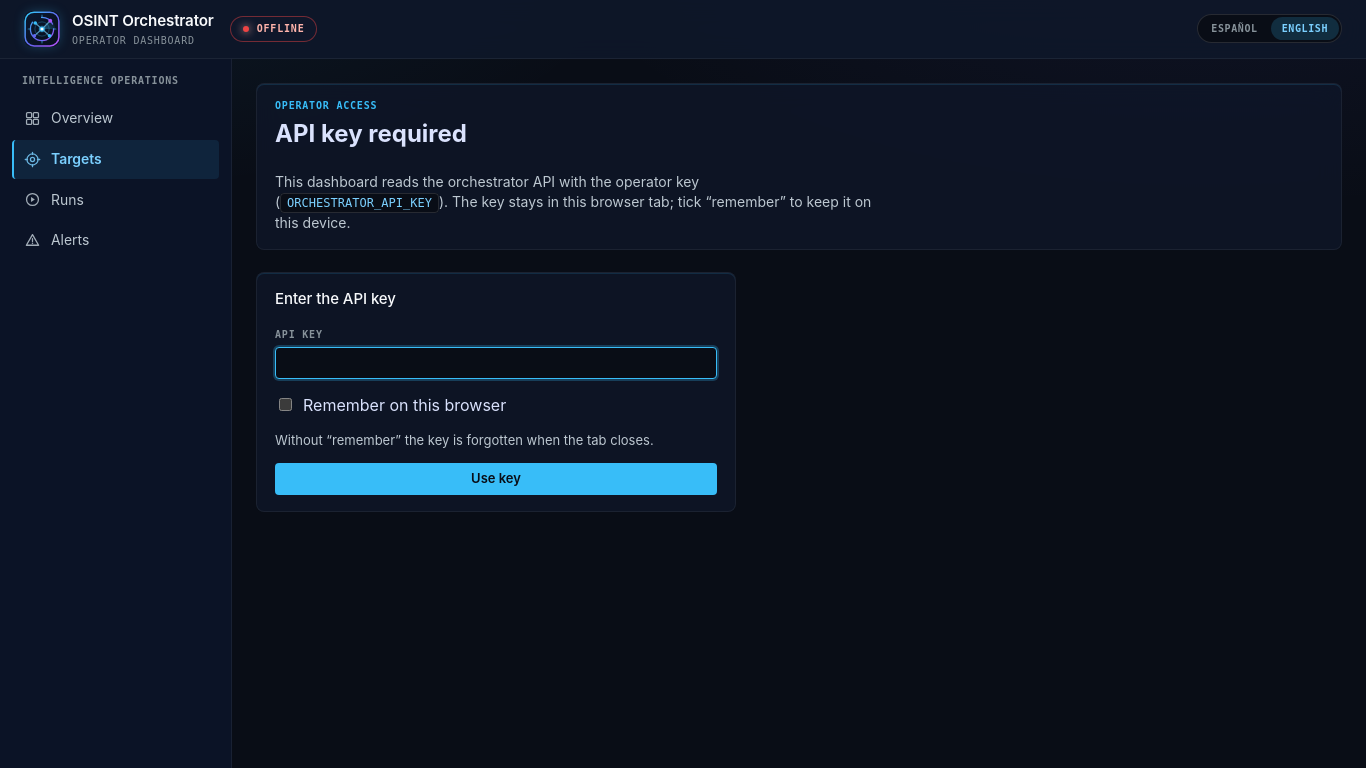
App shell › rejects a wrong key and accepts the right one
In the password field labelled "API key": x=496, y=363 [275,347,717,379], type "wrong-key"
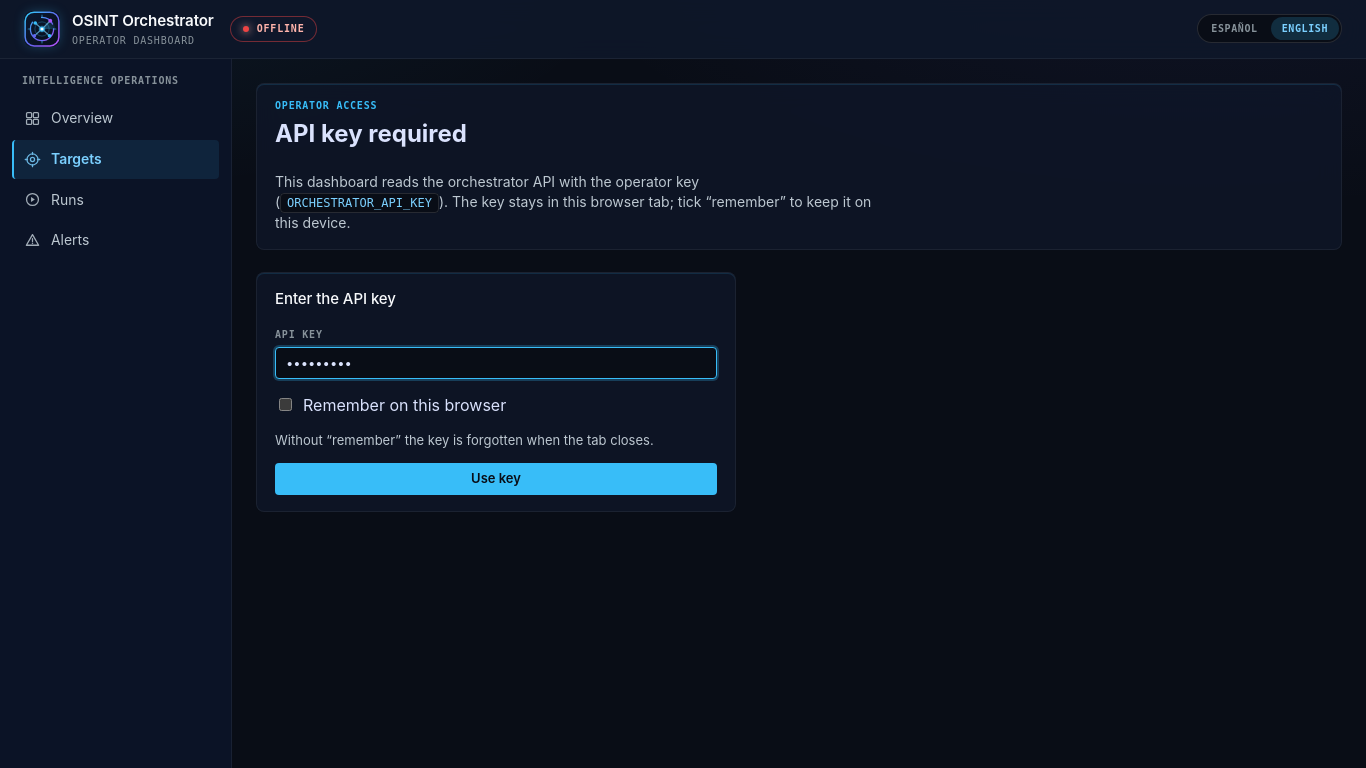
Click the button "Use key": x=496, y=479 [275,463,717,495]
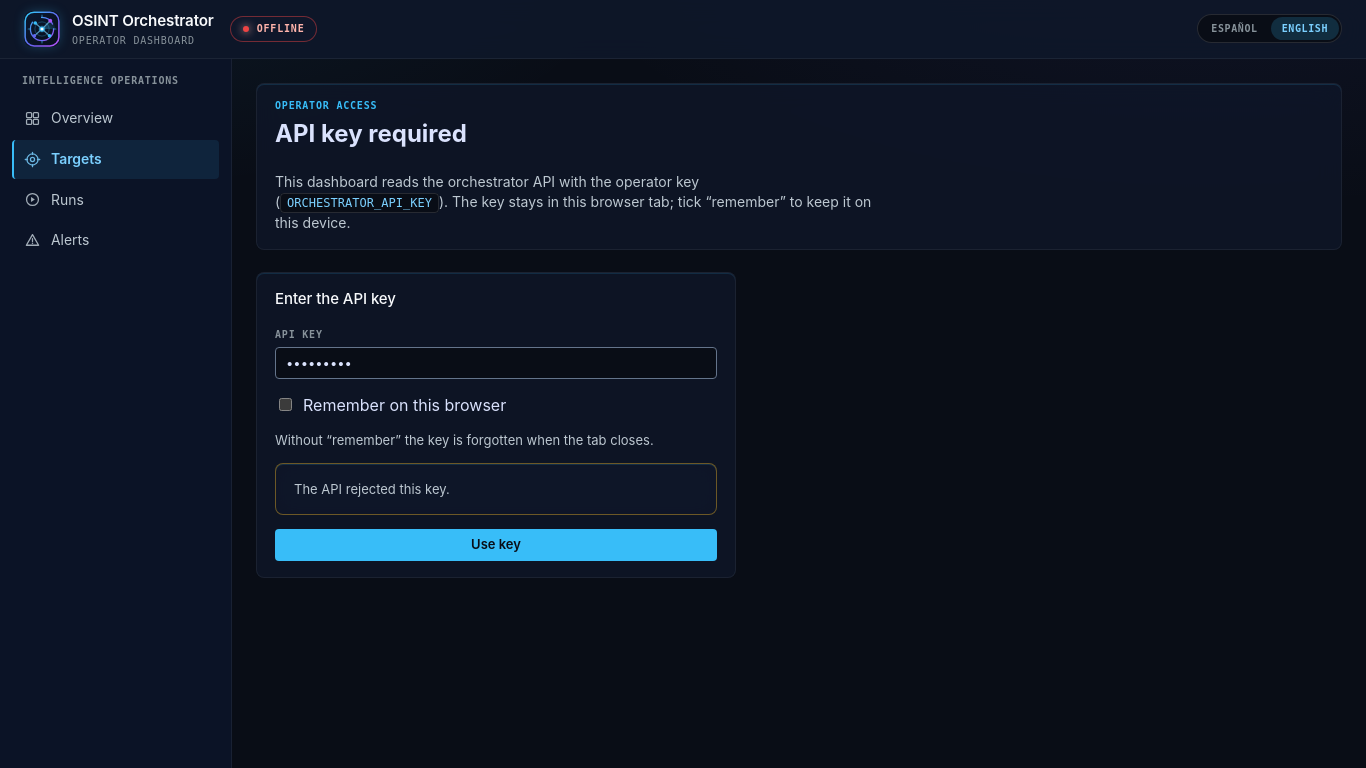
Result: the message shows "rejected" at [294,481,450,497]
In the password field labelled "API key": x=496, y=363 [275,347,717,379], type "test-key"
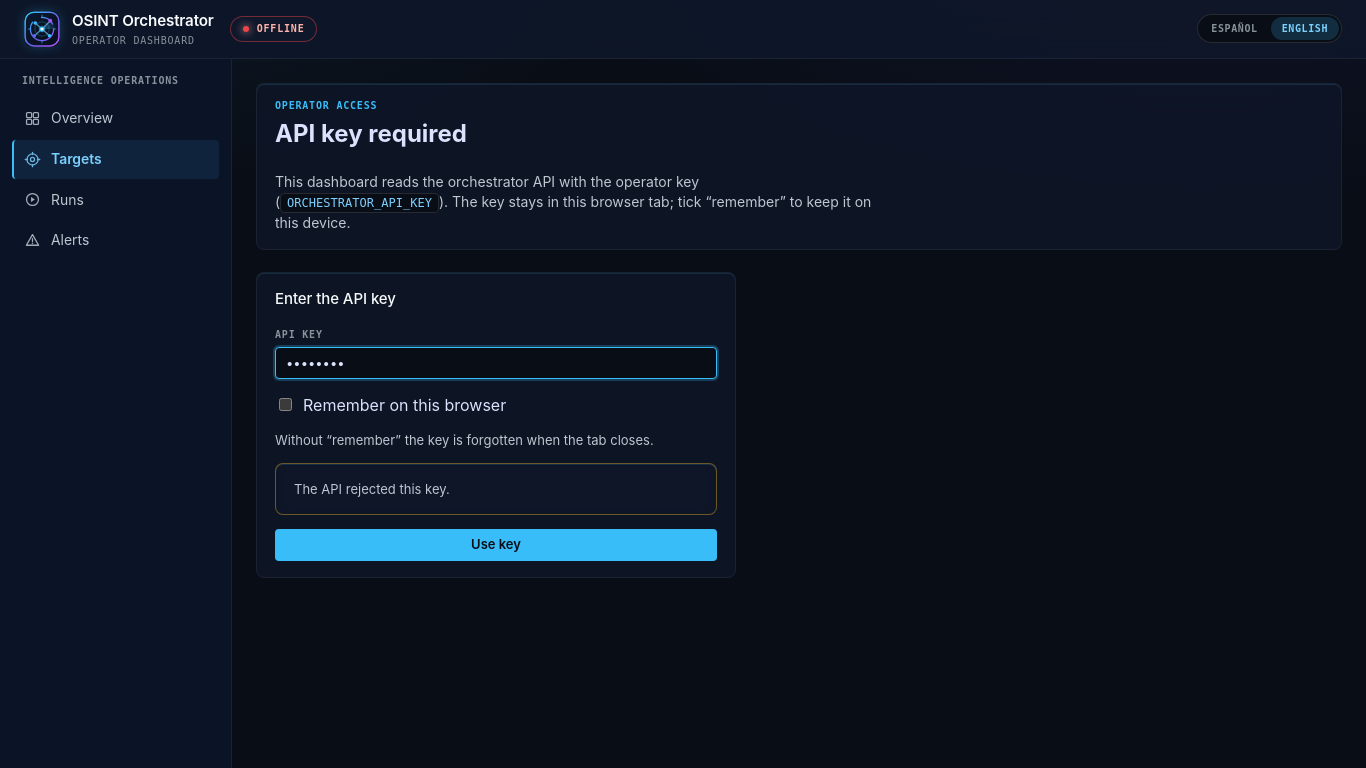
Click the button "Use key": x=496, y=545 [275,529,717,561]
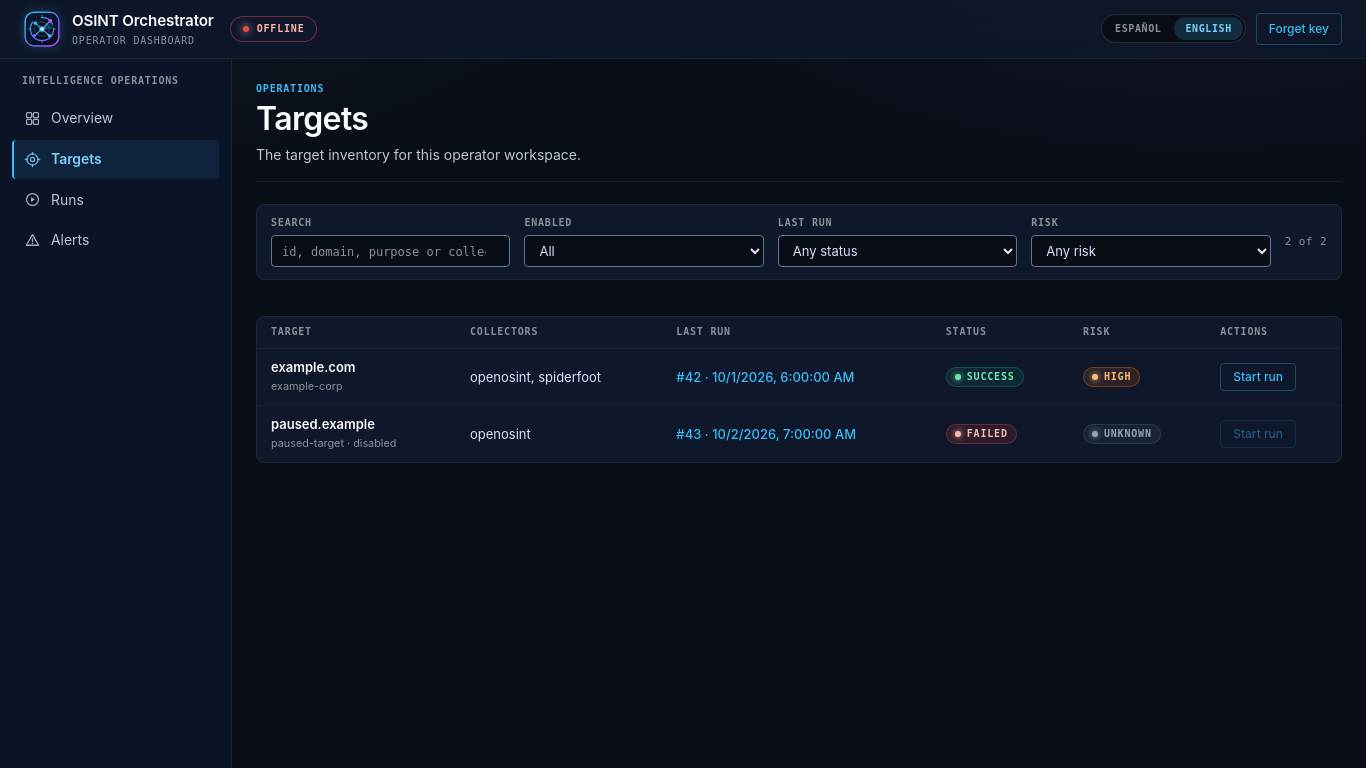
Result: the heading "Targets" is shown at [256,99,368,138]
